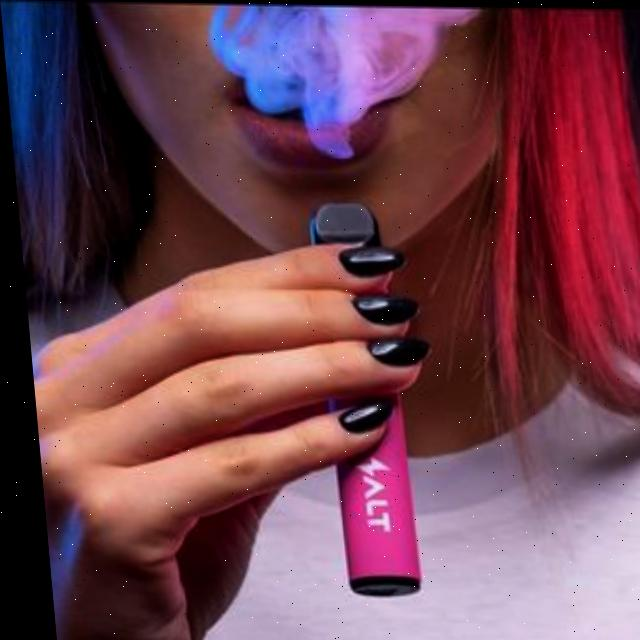vape: (307, 194, 410, 600)
